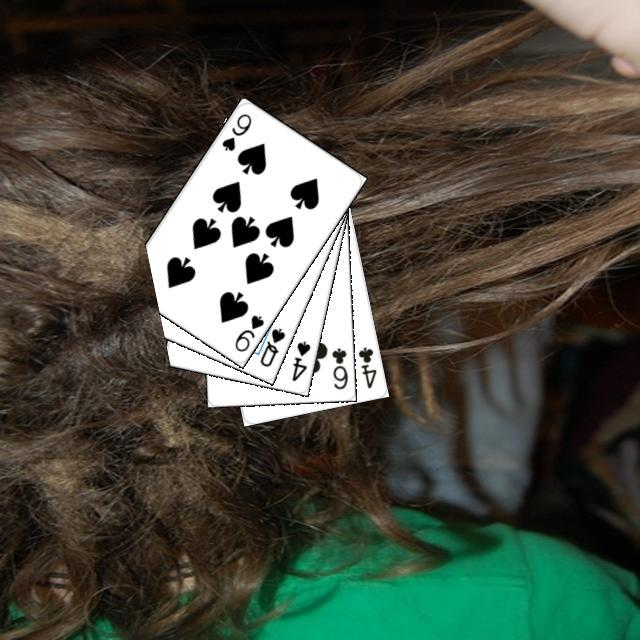4c: (353, 342, 378, 390)
4s: (287, 336, 312, 383)
6c: (327, 343, 349, 391)
9s: (217, 108, 253, 153), (230, 310, 266, 354)
Qs: (255, 323, 287, 368)
